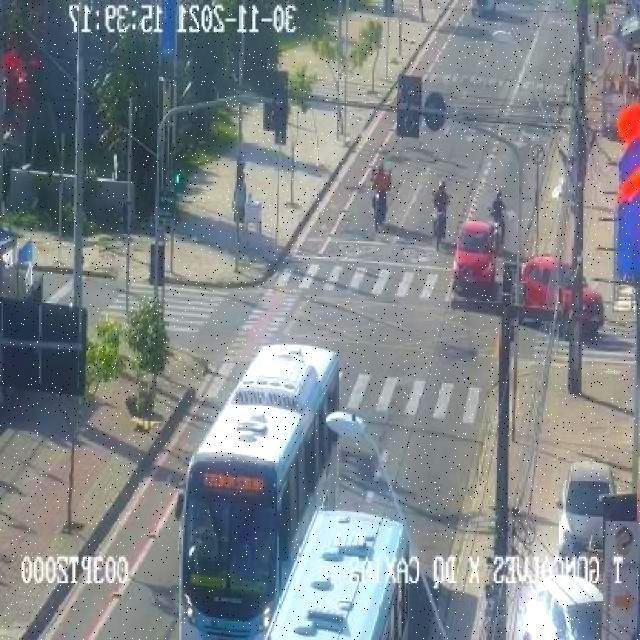Bus: (174, 342, 340, 640), (261, 509, 412, 640)
Car: (521, 253, 606, 341), (554, 460, 616, 560), (524, 573, 607, 640), (453, 221, 498, 296)
Cycle: (430, 192, 452, 252), (370, 173, 389, 231)
